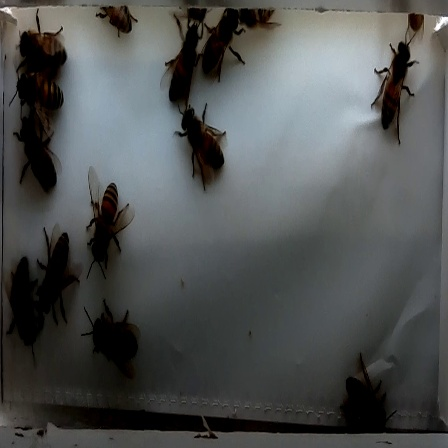bee: (360, 26, 424, 160), (166, 98, 239, 203), (79, 163, 141, 285), (75, 302, 157, 382), (323, 360, 401, 442), (1, 252, 47, 369), (5, 112, 64, 199), (34, 224, 82, 329), (8, 12, 82, 78), (5, 64, 79, 128), (198, 6, 253, 91), (163, 21, 205, 105)
